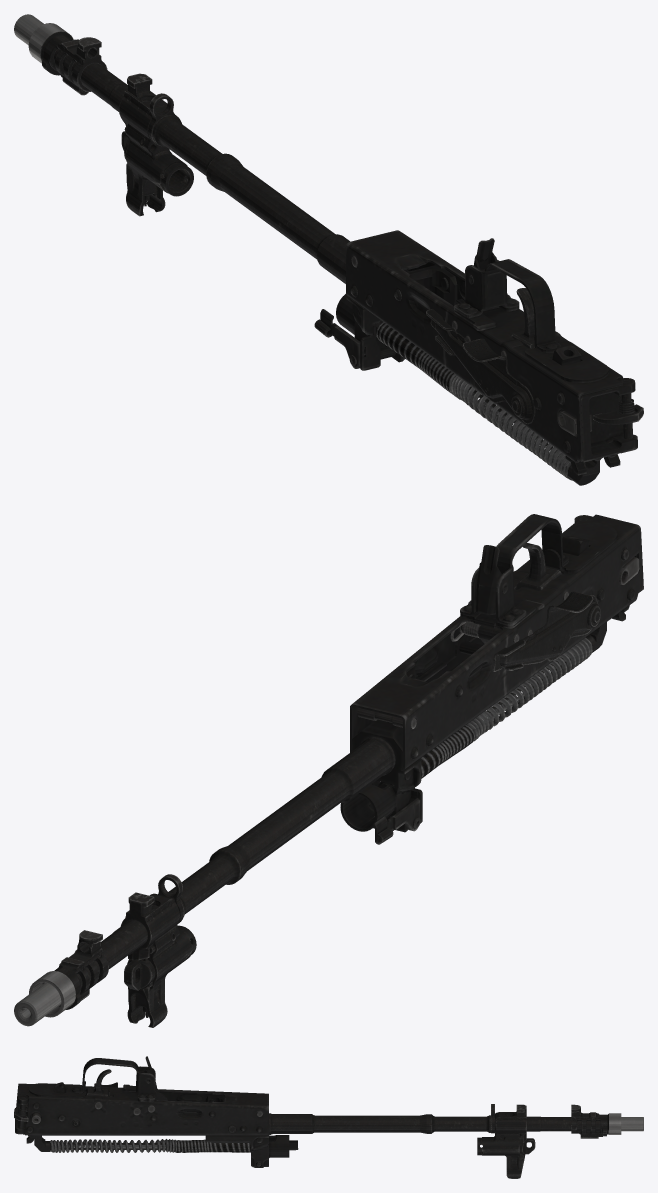
3 views of the same model, one above another, from view 1: azimuth 30°, elevation 25°; view 2: azimuth 150°, elevation 25°; view 3: azimuth 270°, elevation 25° (orthographic). The views are drawn at different scales.
Visible parts, largest first — view 1: TW_6499849fc93611967b034949_PZ_Import; view 2: TW_6499849fc93611967b034949_PZ_Import; view 3: TW_6499849fc93611967b034949_PZ_Import.
Boxes of the visible parts, x1,y1,x2,y2 form: TW_6499849fc93611967b034949_PZ_Import: (14,14,643,485); TW_6499849fc93611967b034949_PZ_Import: (14,514,643,1027); TW_6499849fc93611967b034949_PZ_Import: (14,1056,643,1178).
Bounding box in the file's own units: 0.0339 × 0.37 × 0.0772.
1 material, 1 textured.
